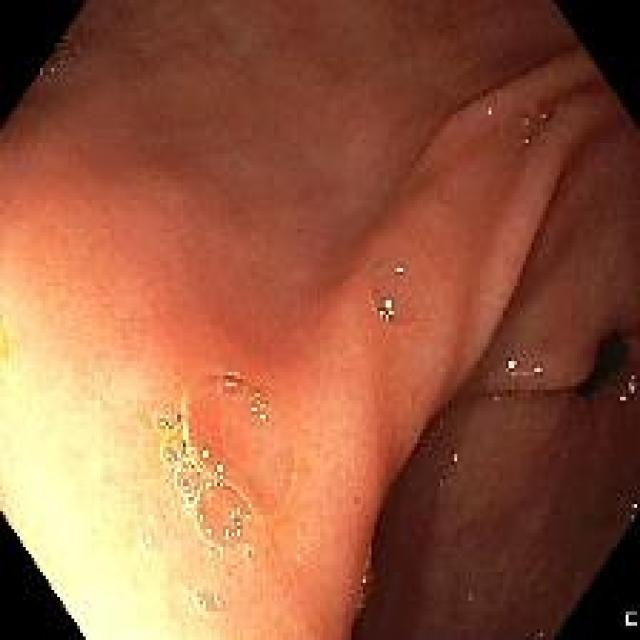bubbles: (155, 370, 294, 552), (366, 251, 429, 328), (502, 91, 563, 148), (188, 577, 235, 619), (358, 556, 376, 609), (140, 533, 154, 550)
contrast: (347, 461, 415, 637), (565, 325, 633, 397)
saturation: (0, 315, 218, 639)
specularity: (615, 371, 639, 407), (203, 458, 227, 493), (221, 508, 246, 537), (190, 442, 211, 469), (251, 391, 270, 420), (531, 349, 547, 382), (377, 298, 397, 324), (503, 352, 519, 377), (198, 513, 214, 537), (176, 474, 194, 492), (162, 446, 181, 462), (450, 448, 462, 469), (158, 416, 175, 430), (242, 541, 254, 558), (195, 595, 207, 610), (211, 591, 222, 607), (630, 502, 637, 524), (223, 378, 234, 392), (540, 107, 551, 120), (521, 134, 531, 148), (393, 263, 404, 275), (464, 590, 474, 603), (491, 393, 501, 404), (484, 106, 494, 117), (520, 116, 529, 128)
